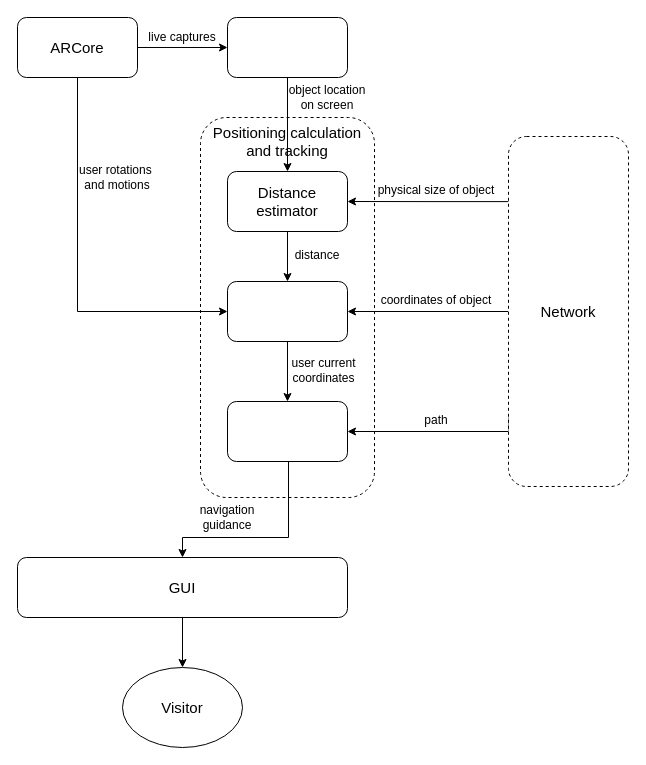
Some shapes in this 646 by 765 pixel diagram are drawn without their labels. The centre of each missing label's shape, as x and y in pixels:
"Coordinates estimator" belongs at pixel 287 311.
"Navigation guider" belongs at pixel 287 431.
"TensorFlow framework" belongs at pixel 287 47.
